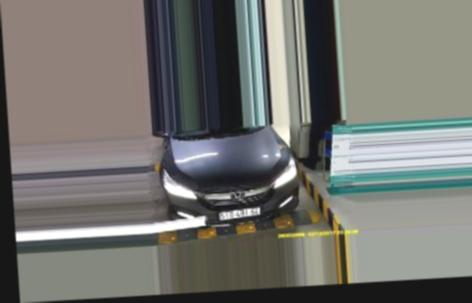License_Plate: (219, 204, 260, 220)
